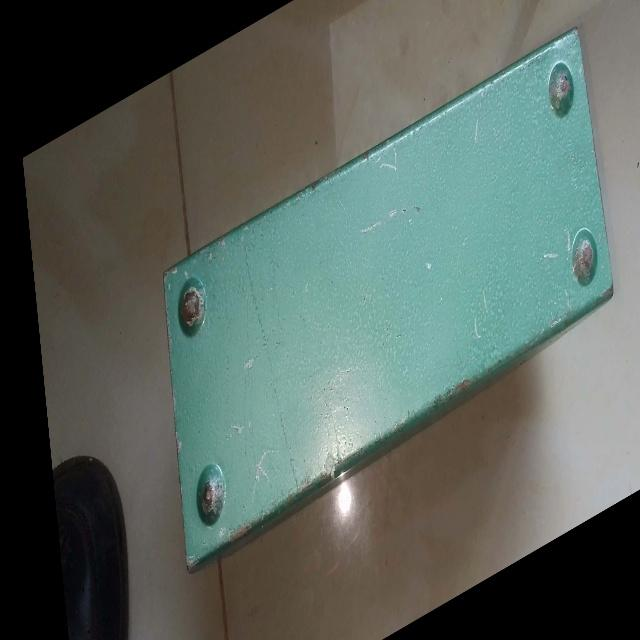Dial Resistance Box: (149, 11, 625, 596)
